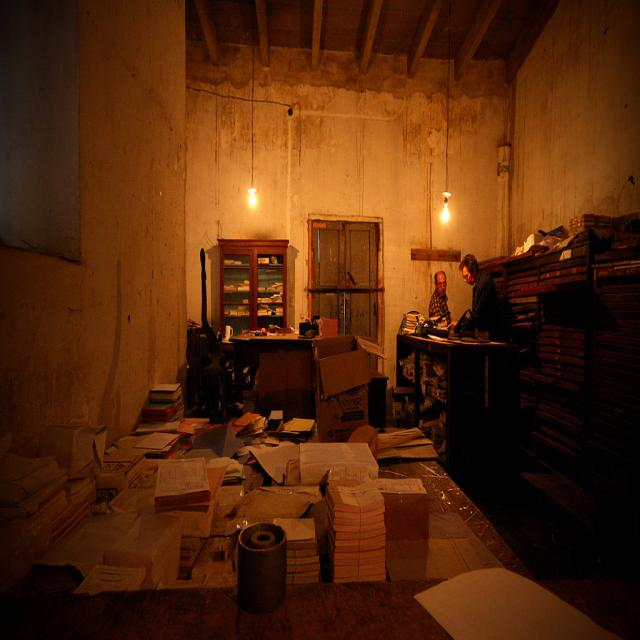desk: (228, 331, 336, 406)
person: (454, 253, 504, 339), (428, 270, 451, 322)
